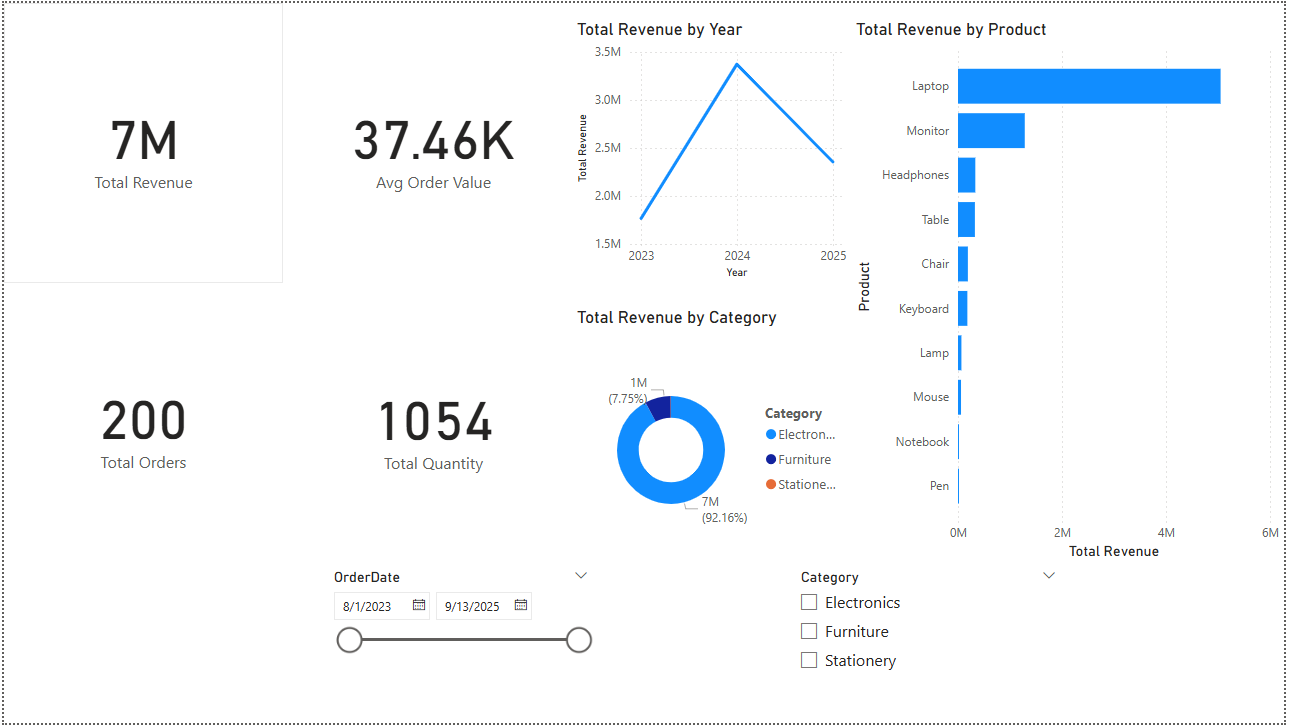

What the dashboard file says about the page in this screenshot:
{"tool":"powerbi","page":{"name":"Page 1","canvas":[1280,720],"ordinal":0},"visuals":[{"type":"card","fields":{"Values":["sales_data_ready.Total Revenue"]},"box":[0,0,279.5,280.3],"z":0},{"type":"card","fields":{"Values":["sales_data_ready.Total Orders"]},"box":[0,280.3,279.5,280.3],"z":1},{"type":"card","fields":{"Values":["sales_data_ready.Total Quantity"]},"box":[289.8,345.9,279.5,150.1],"z":2},{"type":"card","fields":{"Values":["sales_data_ready.Avg Order Value"]},"box":[289.5,0,279,280],"z":3},{"type":"lineChart","fields":{"Category":["sales_data_ready.OrderDate.Variation.Date Hierarchy.Year","sales_data_ready.OrderDate.Variation.Date Hierarchy.Quarter","sales_data_ready.OrderDate.Variation.Date Hierarchy.Month","sales_data_ready.OrderDate.Variation.Date Hierarchy.Day"],"Y":["sales_data_ready.Total Revenue"]},"box":[568.4,16.4,278.6,263.9],"z":4},{"type":"donutChart","fields":{"Category":["sales_data_ready.Category"],"Y":["sales_data_ready.Total Revenue"]},"box":[568.4,303.6,278.6,267.4],"z":5},{"type":"clusteredBarChart","fields":{"Category":["sales_data_ready.Product"],"Y":["sales_data_ready.Total Revenue"]},"box":[847,16.4,433,544.3],"z":6},{"type":"slicer","fields":{"Values":["sales_data_ready.OrderDate"]},"box":[317.4,560.6,278.6,150.1],"z":7},{"type":"slicer","fields":{"Values":["sales_data_ready.Category"]},"box":[784,560.6,279.5,150.1],"z":8}]}

Visuals, with their boxes in screenshot pixels (x1, y1, x2, y2), scaled from the page's 1280x720 canvas onto the 1290x728 screenshot:
card - sales_data_ready.Total Revenue: bbox(0, 0, 282, 283)
card - sales_data_ready.Total Orders: bbox(0, 283, 282, 567)
card - sales_data_ready.Total Quantity: bbox(292, 350, 574, 502)
card - sales_data_ready.Avg Order Value: bbox(292, 0, 573, 283)
lineChart - sales_data_ready.OrderDate.Variation.Date Hierarchy.Year x sales_data_ready.OrderDate.Variation.Date Hierarchy.Quarter: bbox(573, 17, 854, 283)
donutChart - sales_data_ready.Category x sales_data_ready.Total Revenue: bbox(573, 307, 854, 577)
clusteredBarChart - sales_data_ready.Product x sales_data_ready.Total Revenue: bbox(854, 17, 1289, 567)
slicer - sales_data_ready.OrderDate: bbox(320, 567, 601, 719)
slicer - sales_data_ready.Category: bbox(790, 567, 1072, 719)
